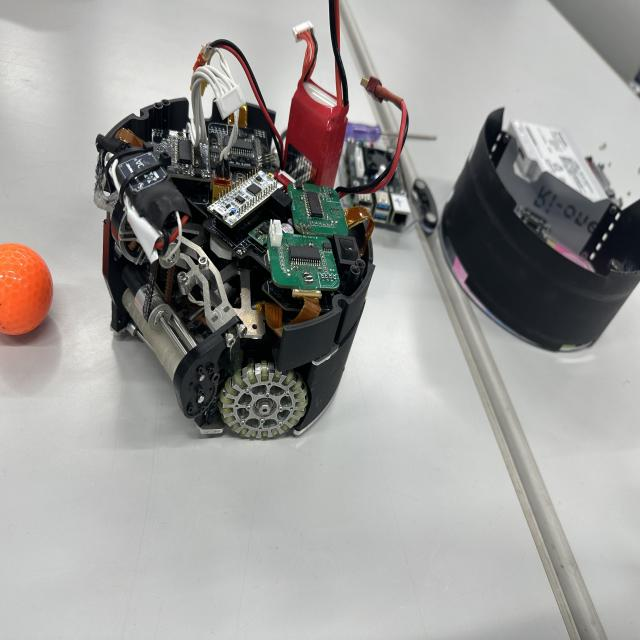ball: (0, 237, 55, 337)
